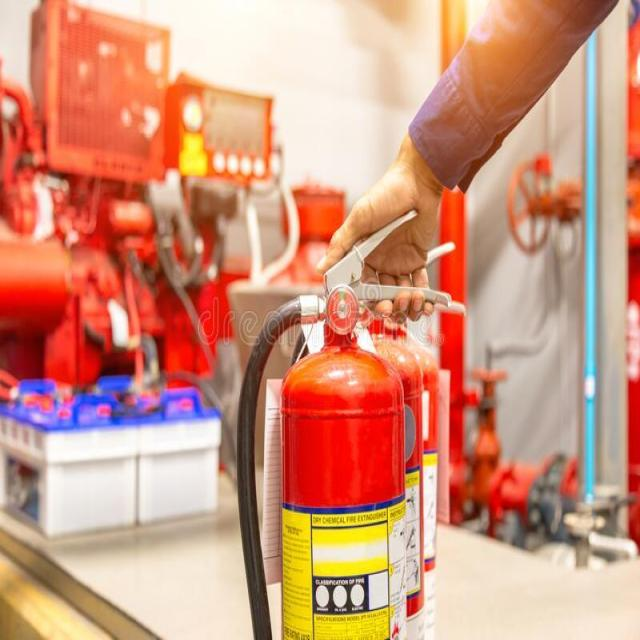fire_extinguisher: (226, 204, 452, 639), (286, 232, 468, 639)
